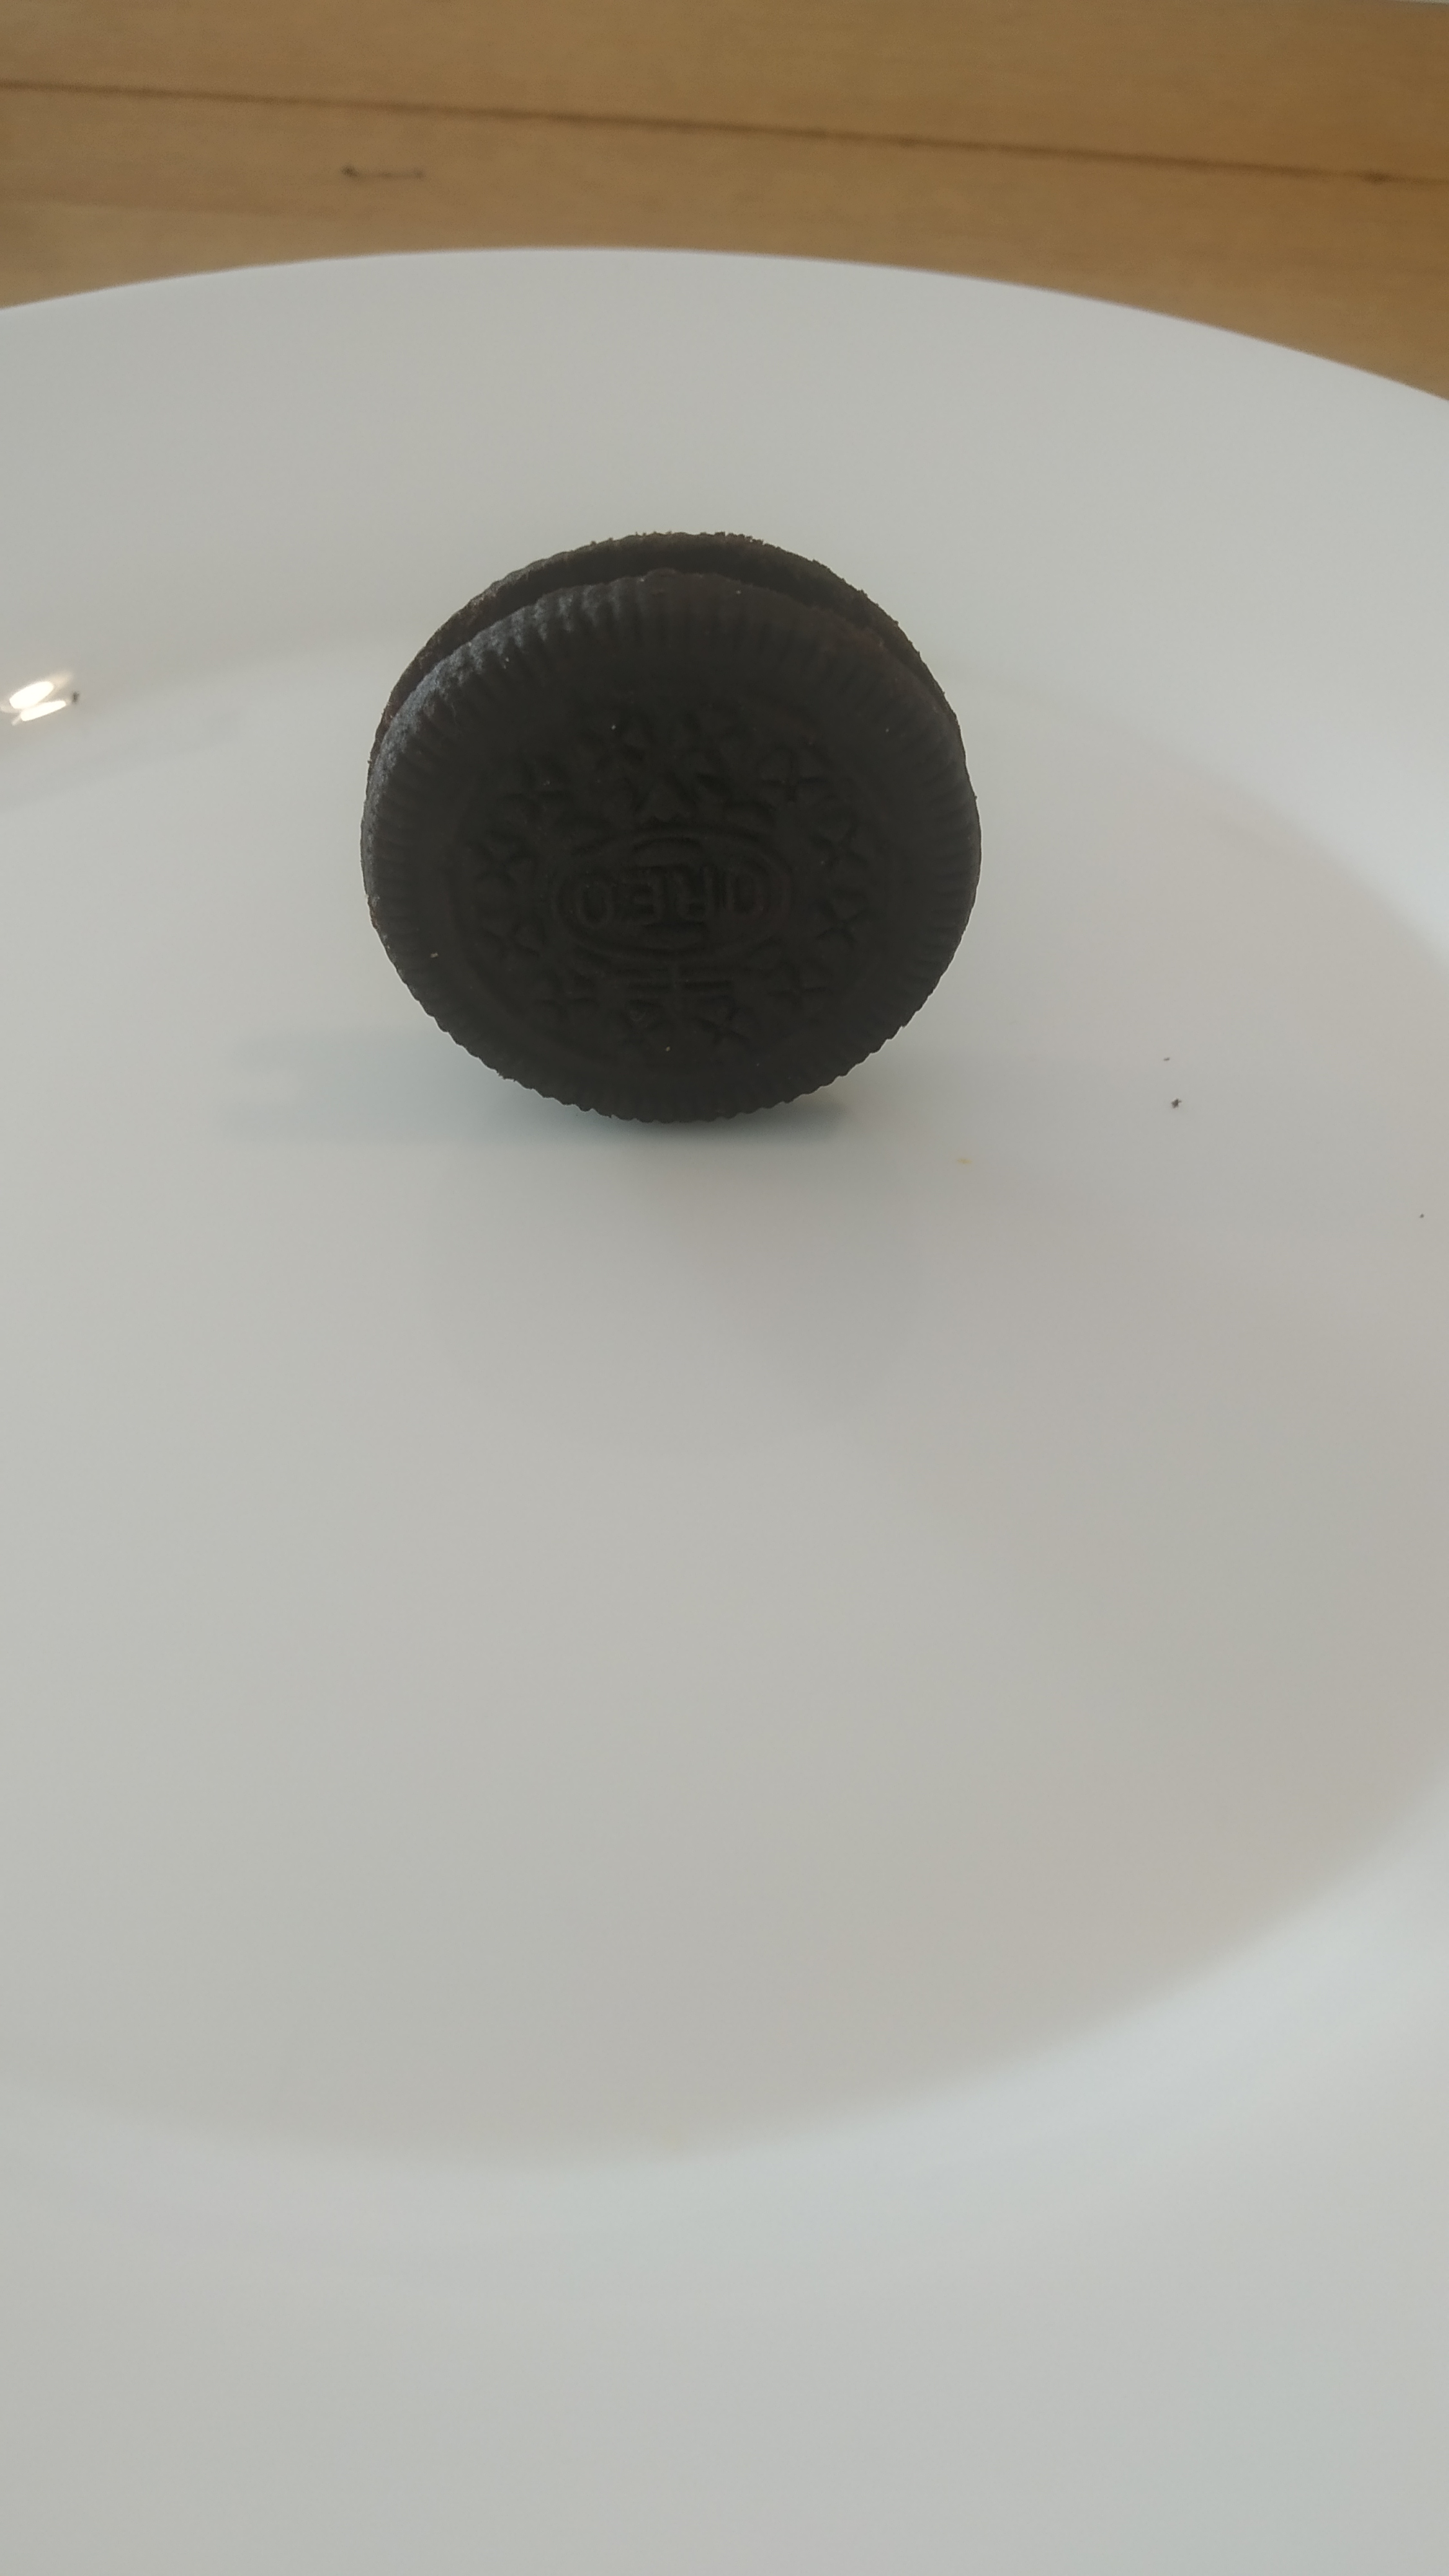oreo: (359, 531, 985, 1125)
